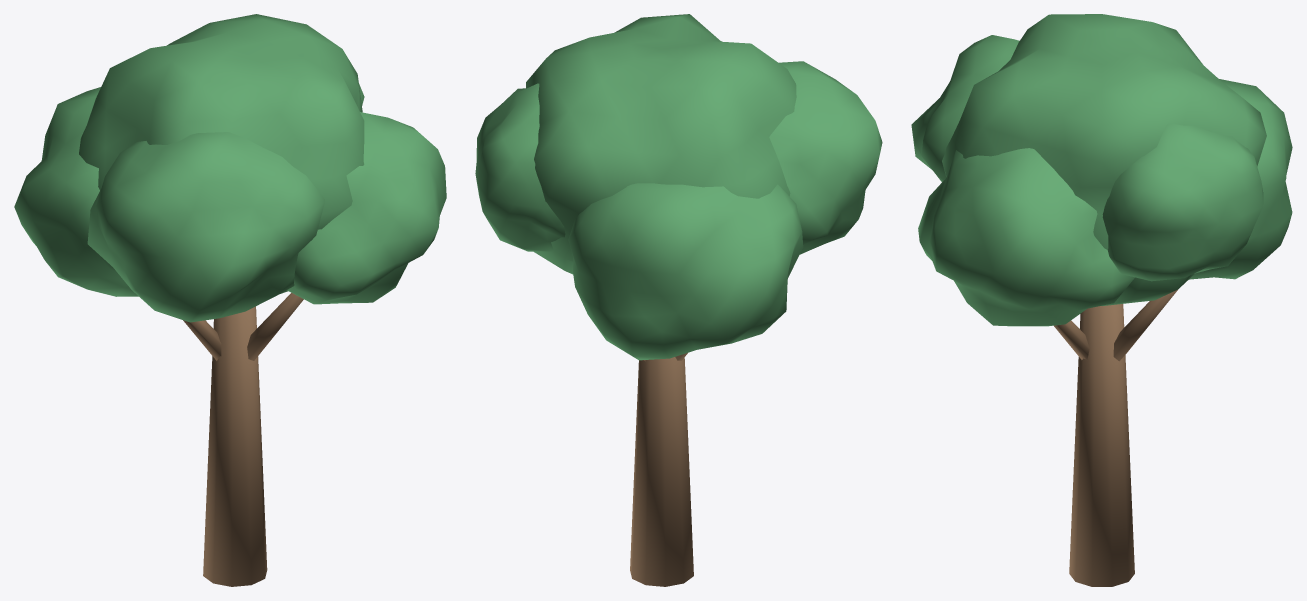
File: Tree_Round_1.fbx
3 views of the same model, side by side, from view 1: azimuth 30°, elevation 25°; view 2: azimuth 150°, elevation 25°; view 3: azimuth 270°, elevation 25° (orthographic).
Visible parts, largest first — view 1: Tree_Round_1; view 2: Tree_Round_1; view 3: Tree_Round_1.
Part boxes in pixels (box(x1,y1,x2,y2)): Tree_Round_1: box(14, 14, 446, 586); Tree_Round_1: box(475, 14, 882, 586); Tree_Round_1: box(911, 14, 1292, 586).
Size of the model in its own units: 3.81 by 5.7 by 3.71.
